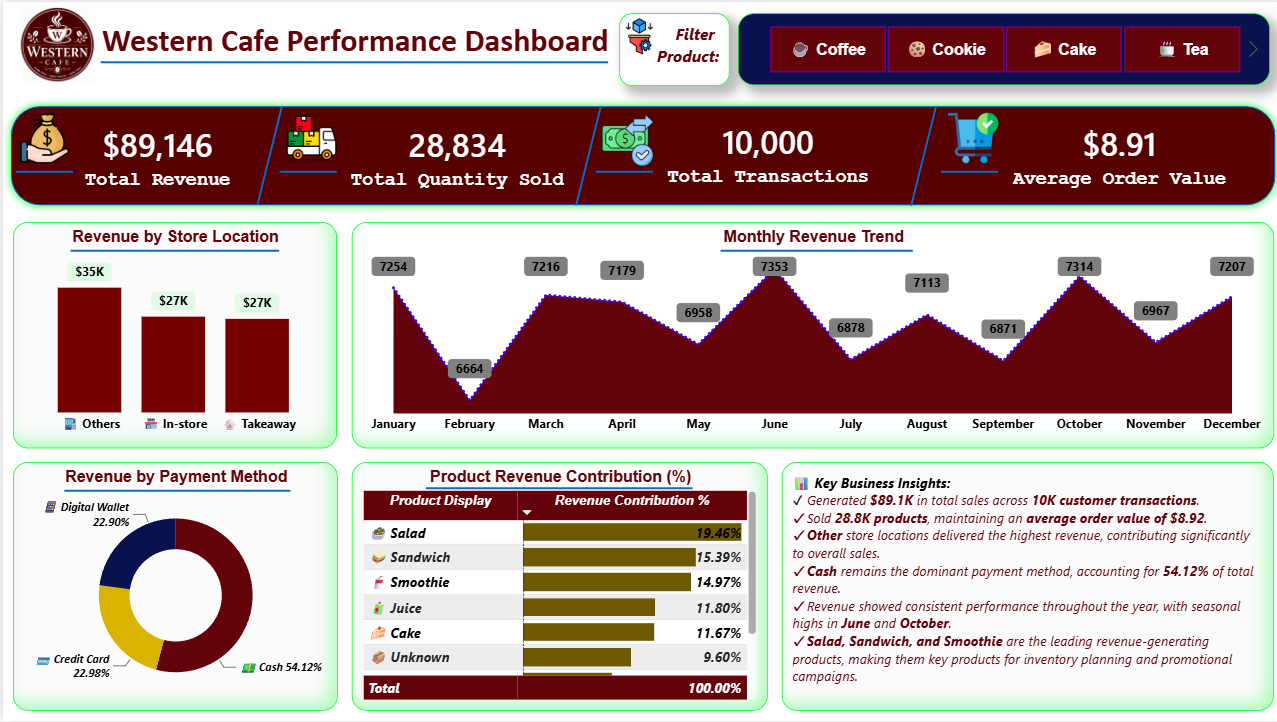

The page's visual inventory and layout, read from the dashboard file:
{"tool":"powerbi","page":{"name":"☕ Western Cafe Performance Dashboard","canvas":[1280,720],"ordinal":0},"visuals":[{"type":"group","id":"g1","title":"Group 2","box":[0,93.4,1280.3,117.4],"z":0},{"type":"group","id":"g2","title":"Group 1","box":[0,95.9,1280.3,114.9],"z":0,"group":"g1"},{"type":"shape","box":[0,95.9,1280.3,114.9],"z":500,"group":"g2"},{"type":"slicer","fields":{"Values":["public clean_cafe_sales_data.Product Display"]},"box":[735.6,11.1,532.2,72.2],"z":1000},{"type":"textbox","box":[0,13.8,630,82.2],"z":1000,"group":"g4"},{"type":"cardVisual","fields":{"Data":["public clean_cafe_sales_data.Total Revenue (USD)"]},"box":[27.7,102.9,254.6,101.3],"z":1000,"group":"g1"},{"type":"shape","box":[246.1,103.9,41,98.9],"z":2000,"group":"g1"},{"type":"image","box":[12.1,111,57.9,50.7],"z":2000},{"type":"textbox","box":[616.8,11.1,110,72.5],"z":3000,"group":"g3"},{"type":"cardVisual","fields":{"Data":["public clean_cafe_sales_data.Total Quantity Sold"]},"box":[316.1,103.1,276.3,101.3],"z":3000,"group":"g1"},{"type":"image","box":[282.3,109.8,51.9,51.9],"z":3000},{"type":"shape","box":[564.6,102.9,41,100.1],"z":4000,"group":"g1"},{"type":"image","box":[598.4,112.2,51.9,51.9],"z":4000},{"type":"shape","box":[900,104.1,41,98.9],"z":5000,"group":"g1"},{"type":"image","box":[944.6,109.8,50.7,51.9],"z":5000},{"type":"cardVisual","fields":{"Data":["public clean_cafe_sales_data.Total Transaction"]},"box":[630,93.4,270,116.2],"z":6000,"group":"g1"},{"type":"shape","box":[12.1,162.9,57.9,14.5],"z":6000},{"type":"cardVisual","fields":{"Data":["public clean_cafe_sales_data.Average Order Value"]},"box":[962.7,95.9,308.8,114.6],"z":7000,"group":"g1"},{"type":"shape","box":[276.3,162.9,57.9,14.5],"z":7000},{"type":"shape","box":[592.4,162.9,57.9,14.5],"z":8000},{"type":"shape","box":[937.4,164.1,57.9,12.1],"z":9000},{"type":"image","box":[618,15.8,37.5,36.2],"z":10000,"group":"g3"},{"type":"lineChart","title":"Monthly Revenue Trend","fields":{"Category":["public clean_cafe_sales_data.transaction_date.Variation.Date Hierarchy.Month"],"Y":["public clean_cafe_sales_data.Total Revenue"]},"box":[348.8,220,922.5,226.2],"z":10000},{"type":"clusteredColumnChart","title":"Revenue by Store Location","fields":{"Y":["public clean_cafe_sales_data.Total Revenue"],"Category":["public clean_cafe_sales_data.Store Location Display"]},"box":[10,220,323.8,226.2],"z":11000},{"type":"shape","box":[67.5,241.2,208.8,15],"z":12000},{"type":"shape","box":[717.5,241.2,192.5,15],"z":13000},{"type":"donutChart","title":"Revenue by Payment Method","fields":{"Y":["public clean_cafe_sales_data.Total Revenue"],"Category":["public clean_cafe_sales_data.Payment Method Display"]},"box":[10,460,325,248.8],"z":14000},{"type":"shape","box":[61.2,482.5,226.2,12.5],"z":15000},{"type":"tableEx","title":"Product Revenue Contribution (%)","fields":{"Values":["public clean_cafe_sales_data.Product Display","public clean_cafe_sales_data.Revenue Contribution %"]},"box":[348.8,460,416.2,248.8],"z":16000},{"type":"shape","box":[422.5,477.5,267.5,17.5],"z":17000},{"type":"textbox","box":[779.4,459.7,492.2,248.5],"z":18000},{"type":"group","id":"g3","title":"Group 3","box":[616.8,11.1,110,72.5],"z":19000},{"type":"group","id":"g4","title":"Group 4","box":[0,13.8,630,82.2],"z":20000},{"type":"image","box":[11.1,5.6,86.7,75.6],"z":21000},{"type":"shape","box":[97.8,52.9,507.8,15.6],"z":21000,"group":"g4"}]}

Visuals, with their boxes in screenshot pixels (x1, y1, x2, y2), scaled from the page's 1280x720 canvas onto the 1277x722 screenshot:
"Group 2" group: bbox=(0, 94, 1276, 211)
"Group 1" group: bbox=(0, 96, 1276, 211)
shape: bbox=(0, 96, 1276, 211)
slicer - public clean_cafe_sales_data.Product Display: bbox=(734, 11, 1265, 84)
textbox: bbox=(0, 14, 629, 96)
cardVisual - public clean_cafe_sales_data.Total Revenue (USD): bbox=(28, 103, 282, 205)
shape: bbox=(246, 104, 286, 203)
image: bbox=(12, 111, 70, 162)
textbox: bbox=(615, 11, 725, 84)
cardVisual - public clean_cafe_sales_data.Total Quantity Sold: bbox=(315, 103, 591, 205)
image: bbox=(282, 110, 333, 162)
shape: bbox=(563, 103, 604, 204)
image: bbox=(597, 113, 649, 165)
shape: bbox=(898, 104, 939, 204)
image: bbox=(942, 110, 993, 162)
cardVisual - public clean_cafe_sales_data.Total Transaction: bbox=(629, 94, 898, 210)
shape: bbox=(12, 163, 70, 178)
cardVisual - public clean_cafe_sales_data.Average Order Value: bbox=(960, 96, 1269, 211)
shape: bbox=(276, 163, 333, 178)
shape: bbox=(591, 163, 649, 178)
shape: bbox=(935, 165, 993, 177)
image: bbox=(617, 16, 654, 52)
"Monthly Revenue Trend" lineChart: bbox=(348, 221, 1268, 447)
"Revenue by Store Location" clusteredColumnChart: bbox=(10, 221, 333, 447)
shape: bbox=(67, 242, 276, 257)
shape: bbox=(716, 242, 908, 257)
"Revenue by Payment Method" donutChart: bbox=(10, 461, 334, 711)
shape: bbox=(61, 484, 287, 496)
"Product Revenue Contribution (%)" tableEx: bbox=(348, 461, 763, 711)
shape: bbox=(422, 479, 688, 496)
textbox: bbox=(778, 461, 1269, 710)
"Group 3" group: bbox=(615, 11, 725, 84)
"Group 4" group: bbox=(0, 14, 629, 96)
image: bbox=(11, 6, 98, 81)
shape: bbox=(98, 53, 604, 69)
